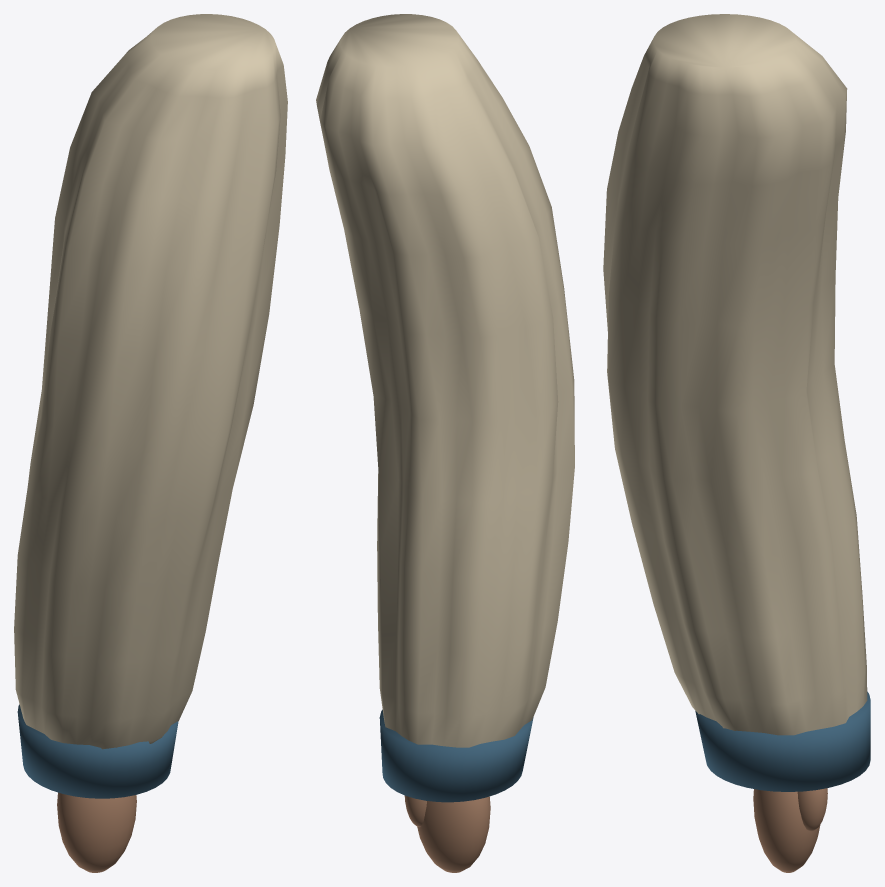
File: PilgrimLeftSleeve.fbx
3 views of the same model, side by side, from view 1: azimuth 30°, elevation 25°; view 2: azimuth 150°, elevation 25°; view 3: azimuth 270°, elevation 25° (orthographic). The views are drawn at different scales.
Parts seen in each view (by area): view 1: PilgrimLeftSleeve; view 2: PilgrimLeftSleeve; view 3: PilgrimLeftSleeve.
Part boxes in pixels (<box>): PilgrimLeftSleeve: <box>14,14,287,872</box>; PilgrimLeftSleeve: <box>316,14,574,872</box>; PilgrimLeftSleeve: <box>603,14,870,872</box>.
Bounding box in the file's own units: 18.04 × 16.86 × 60.8.
